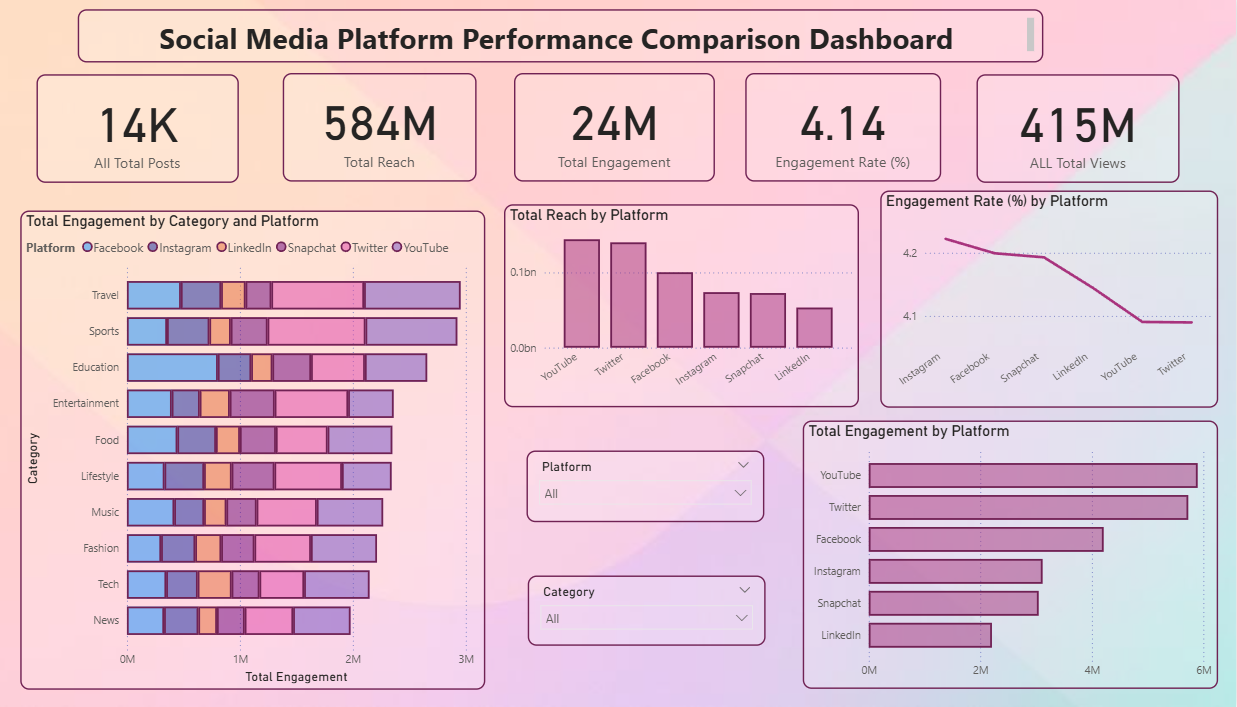

This screenshot's page, from the dashboard's own definition file:
{"tool":"powerbi","page":{"name":"Comparison Dashboard","canvas":[1400,800],"ordinal":7},"visuals":[{"type":"textbox","box":[94.1,12.1,1088.2,60.3],"z":0},{"type":"card","fields":{"Values":["contentdata.All Total Posts"]},"box":[47.2,86.1,227.8,122.2],"z":1000},{"type":"card","fields":{"Values":["contentdata.Total Reach"]},"box":[325,84.7,218.1,122.2],"z":2000},{"type":"card","fields":{"Values":["contentdata.Total Engagement"]},"box":[586.1,84.7,226.4,122.2],"z":3000},{"type":"card","fields":{"Values":["contentdata.Engagement Rate (%)"]},"box":[845.8,84.7,220.8,122.2],"z":4000},{"type":"card","fields":{"Values":["contentdata.ALL Total Views"]},"box":[1106.9,86.1,229.2,122.2],"z":5000},{"type":"clusteredColumnChart","fields":{"Category":["contentdata.Platform"],"Y":["contentdata.Total Reach"]},"box":[575,231.9,400,229.2],"z":6000},{"type":"clusteredBarChart","fields":{"Category":["contentdata.Platform"],"Y":["contentdata.Total Engagement"]},"box":[911.1,476.4,468.1,302.8],"z":7000},{"type":"lineChart","fields":{"Category":["contentdata.Platform"],"Y":["contentdata.Engagement Rate (%)"]},"box":[998.6,216.7,380.6,244.4],"z":8000},{"type":"barChart","fields":{"Category":["contentdata.Category"],"Y":["contentdata.Total Engagement"],"Series":["contentdata.Platform"]},"box":[29.2,238.9,523.6,540.3],"z":9000},{"type":"slicer","fields":{"Values":["contentdata.Platform"]},"box":[600,509.7,268.1,80.6],"z":10000},{"type":"slicer","fields":{"Values":["contentdata.Category"]},"box":[601.4,651.4,268.1,79.2],"z":11000}]}

Visuals, with their boxes in screenshot pixels (x1, y1, x2, y2), scaled from the page's 1400x800 canvas onto the 1237x707 screenshot:
textbox: pyautogui.locateOnScreen(83, 11, 1045, 64)
card - contentdata.All Total Posts: pyautogui.locateOnScreen(42, 76, 243, 184)
card - contentdata.Total Reach: pyautogui.locateOnScreen(287, 75, 480, 183)
card - contentdata.Total Engagement: pyautogui.locateOnScreen(518, 75, 718, 183)
card - contentdata.Engagement Rate (%): pyautogui.locateOnScreen(747, 75, 942, 183)
card - contentdata.ALL Total Views: pyautogui.locateOnScreen(978, 76, 1181, 184)
clusteredColumnChart - contentdata.Platform x contentdata.Total Reach: pyautogui.locateOnScreen(508, 205, 861, 407)
clusteredBarChart - contentdata.Platform x contentdata.Total Engagement: pyautogui.locateOnScreen(805, 421, 1219, 689)
lineChart - contentdata.Platform x contentdata.Engagement Rate (%): pyautogui.locateOnScreen(882, 192, 1219, 407)
barChart - contentdata.Category x contentdata.Total Engagement: pyautogui.locateOnScreen(26, 211, 488, 689)
slicer - contentdata.Platform: pyautogui.locateOnScreen(530, 450, 767, 522)
slicer - contentdata.Category: pyautogui.locateOnScreen(531, 576, 768, 646)
